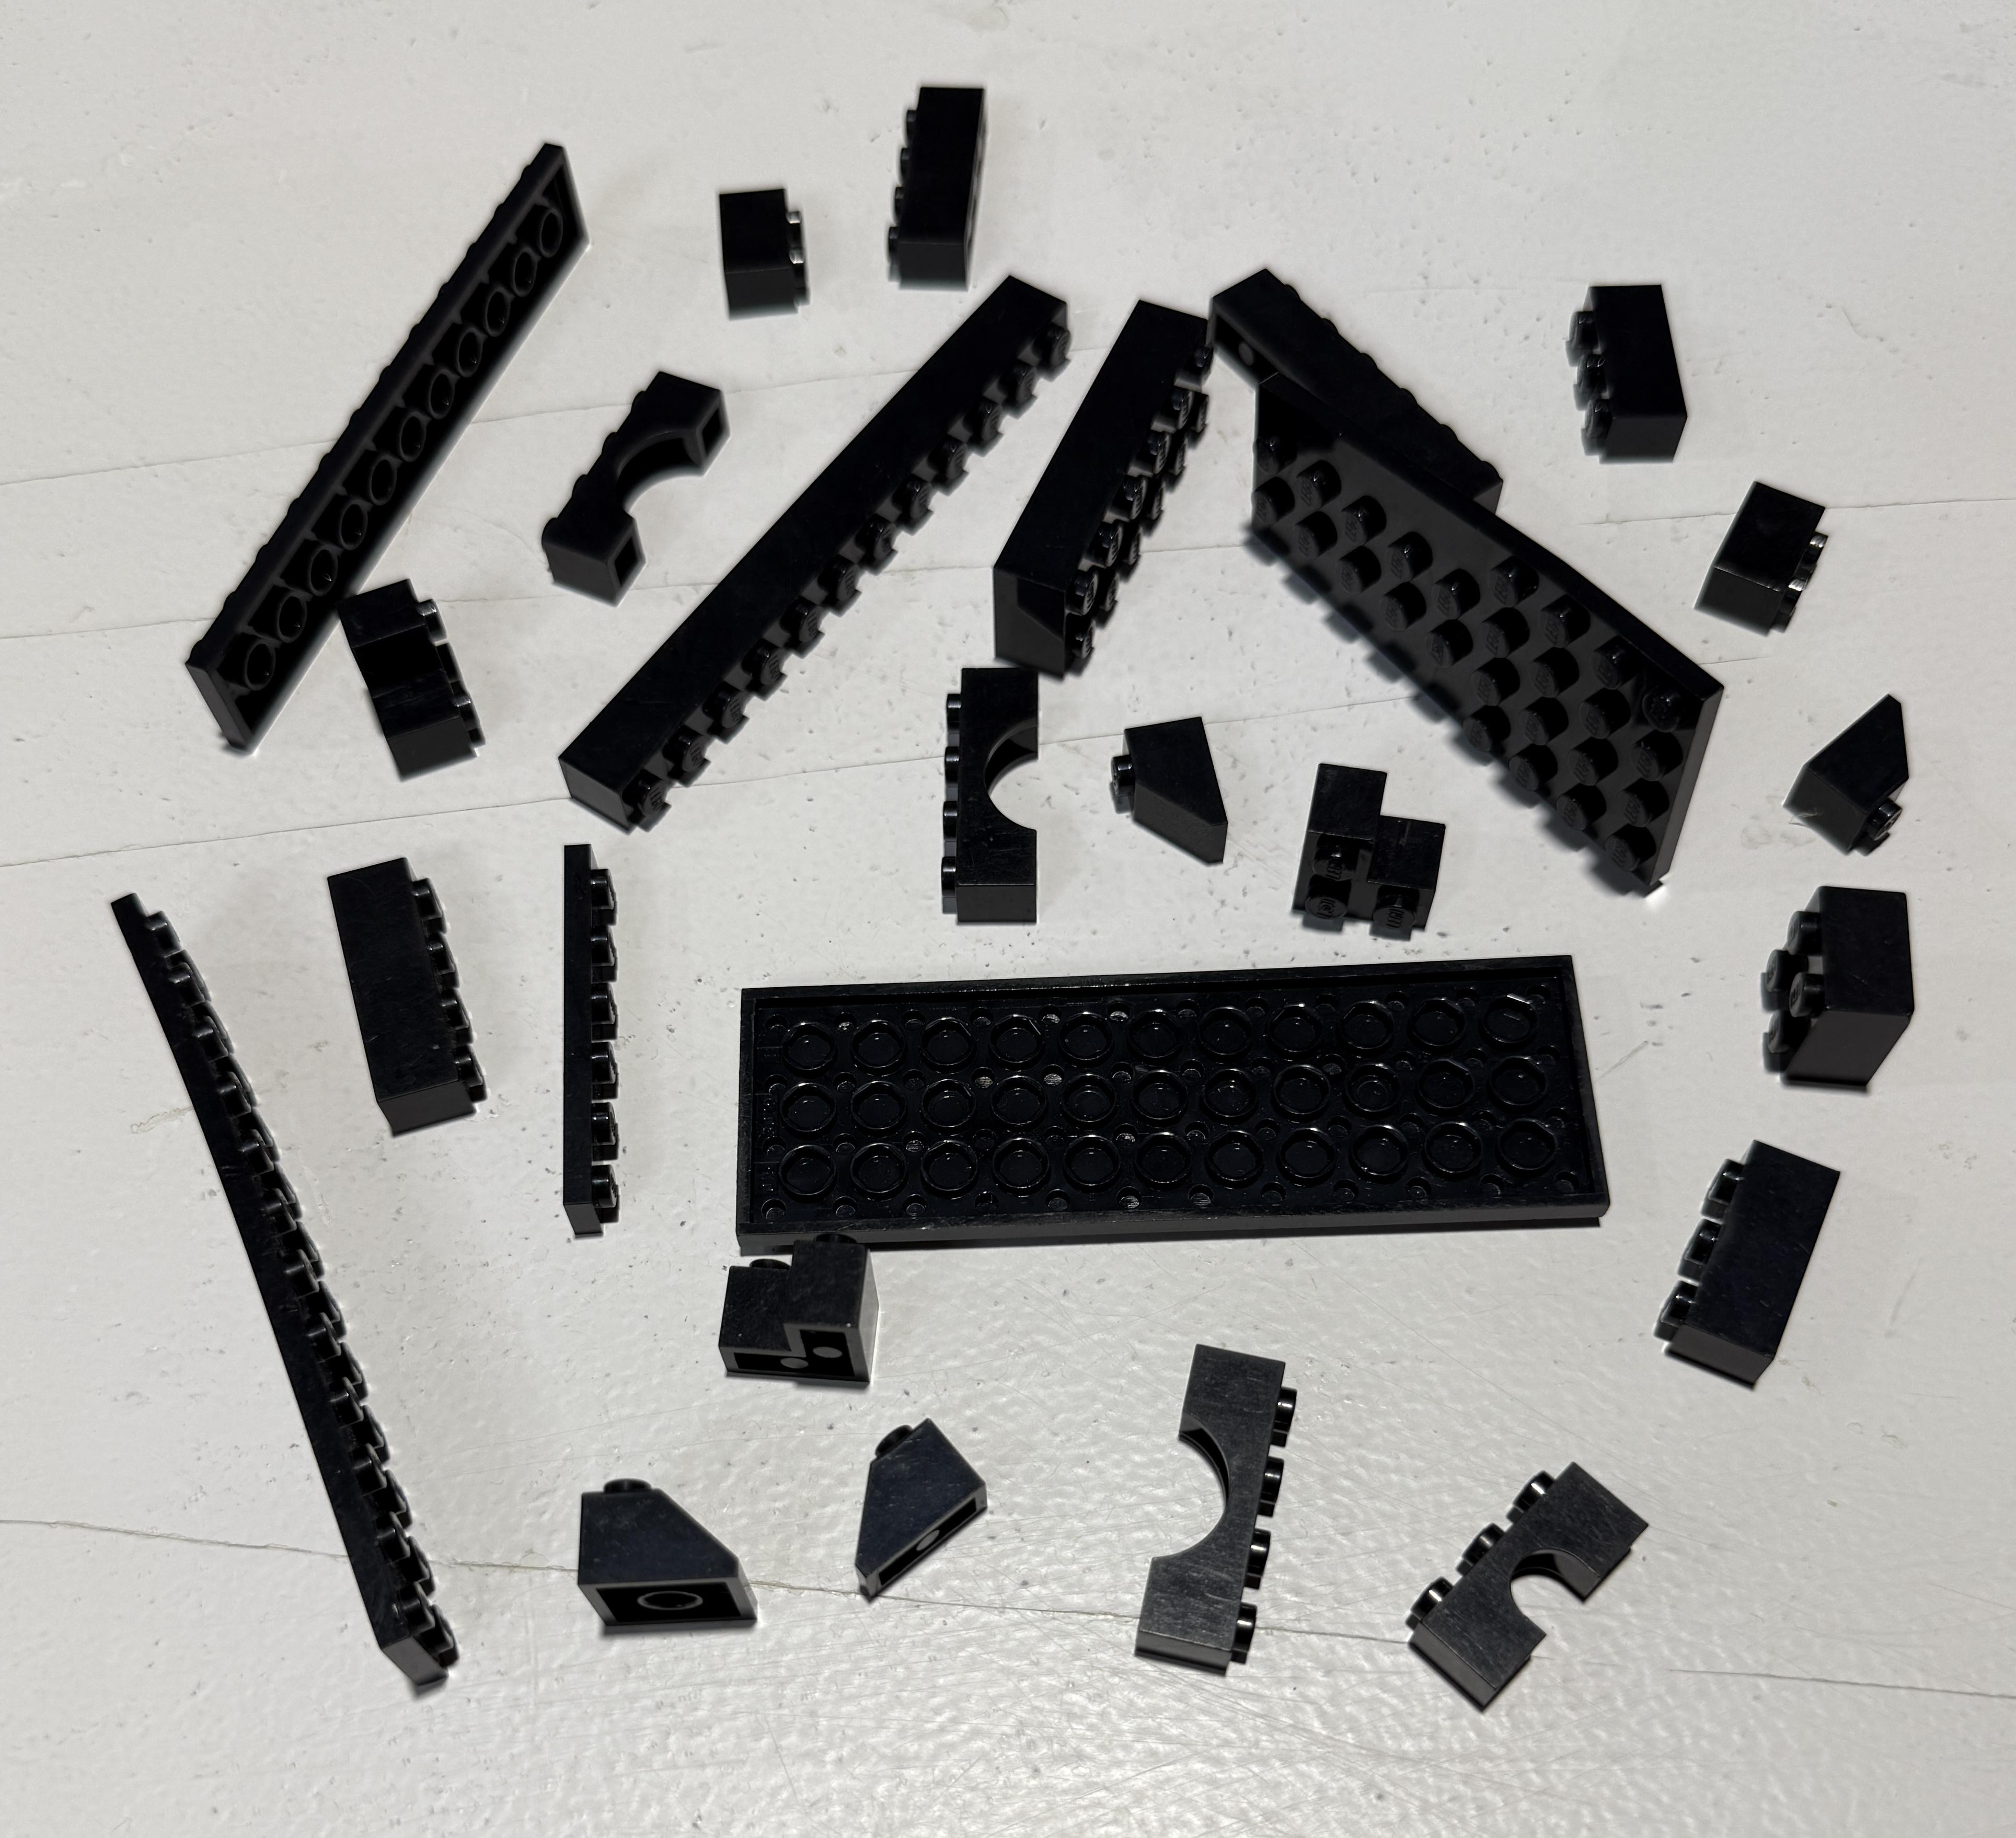brick_1x2: (1681, 453, 1846, 644), (695, 147, 836, 365)
brick_1x4: (304, 549, 515, 793)
brick_2x2: (1733, 865, 1940, 1116)
